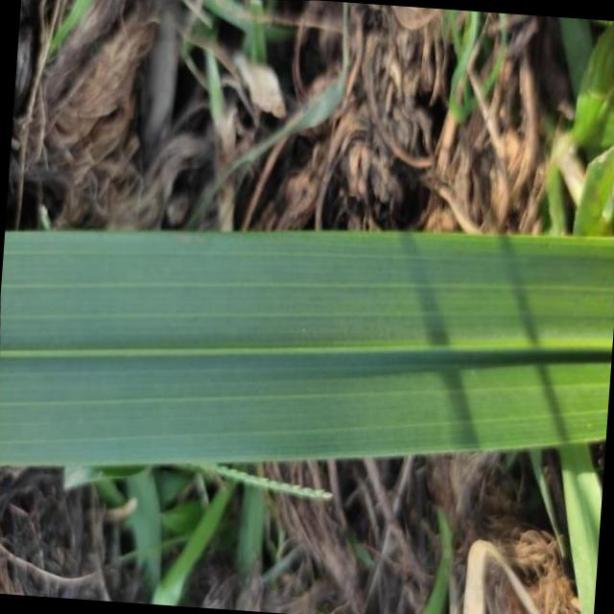Healthy: (0, 227, 614, 469)
